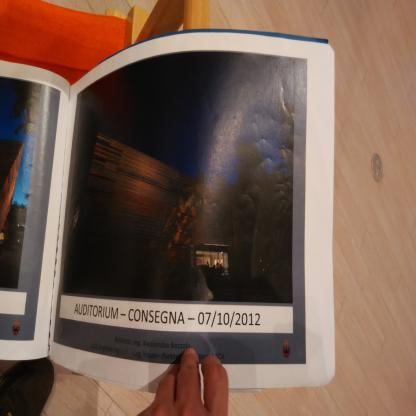book: (0, 24, 336, 396)
